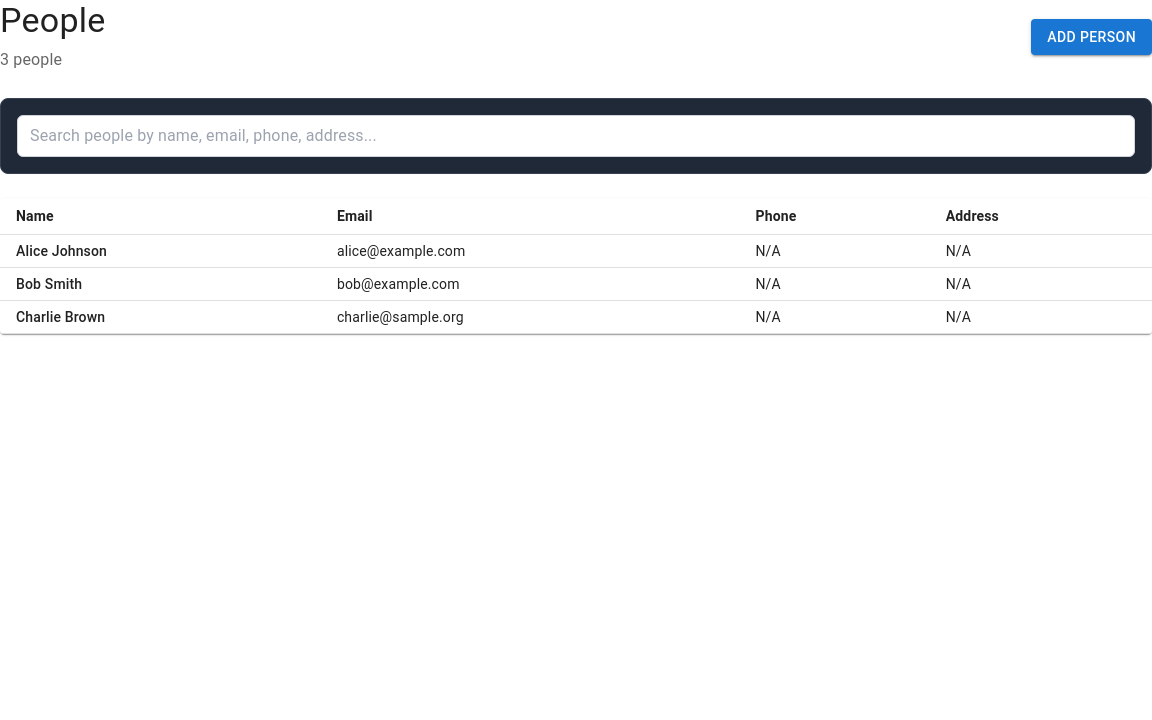
Scenario: PeopleTab (MUI version) › opens edit modal on row click
Click the text "Alice Johnson": click(576, 252) [0, 235, 1151, 268]
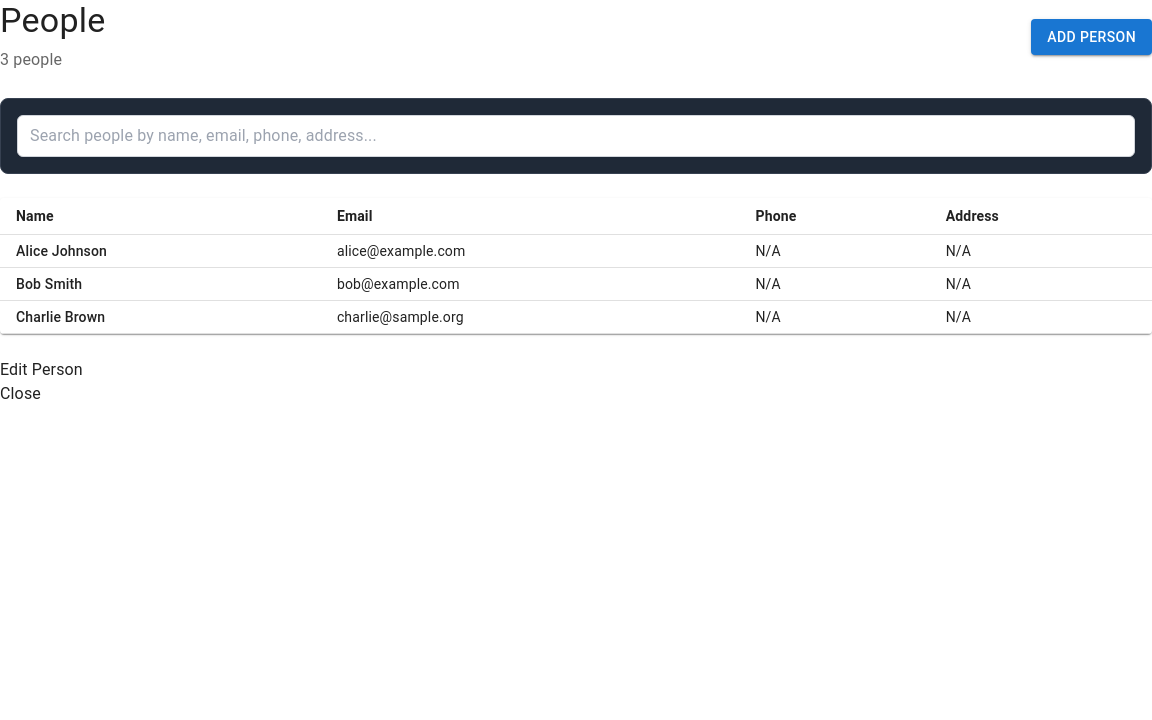
Check: the dialog is shown, box [0, 360, 83, 406]
Check: the heading "Edit Person" is shown, box [0, 360, 83, 379]
